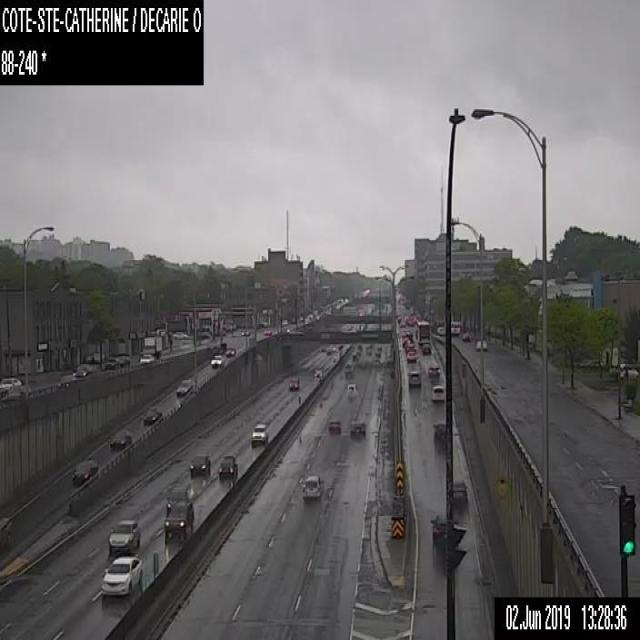vehicle: (100, 556, 142, 595), (108, 519, 140, 554), (164, 500, 194, 534), (166, 485, 192, 514), (71, 457, 96, 484), (426, 366, 444, 402), (428, 512, 445, 548), (302, 474, 323, 499), (189, 455, 210, 477), (218, 455, 238, 477), (414, 320, 430, 345), (453, 480, 467, 507), (250, 422, 267, 444), (109, 431, 131, 448), (144, 336, 161, 358), (0, 516, 13, 541), (0, 376, 21, 391), (143, 408, 161, 425), (406, 369, 422, 388), (175, 379, 192, 396), (349, 420, 366, 436), (74, 363, 91, 376), (327, 420, 341, 435), (432, 423, 443, 440), (210, 354, 224, 367), (474, 338, 487, 351), (104, 357, 117, 370), (116, 355, 130, 366), (346, 381, 356, 396), (139, 352, 153, 362), (450, 321, 460, 333), (288, 378, 298, 390), (343, 362, 352, 374), (173, 331, 188, 338), (406, 351, 416, 361), (225, 346, 235, 356), (405, 342, 414, 352), (462, 332, 471, 341), (422, 343, 430, 353), (436, 326, 444, 334), (351, 352, 357, 361), (263, 328, 271, 334), (399, 319, 405, 326), (326, 348, 332, 354), (320, 346, 326, 351), (282, 319, 288, 324), (366, 348, 371, 354), (356, 344, 362, 349), (374, 350, 380, 355), (366, 343, 373, 347), (356, 350, 360, 355), (377, 346, 382, 350), (331, 346, 335, 350)
